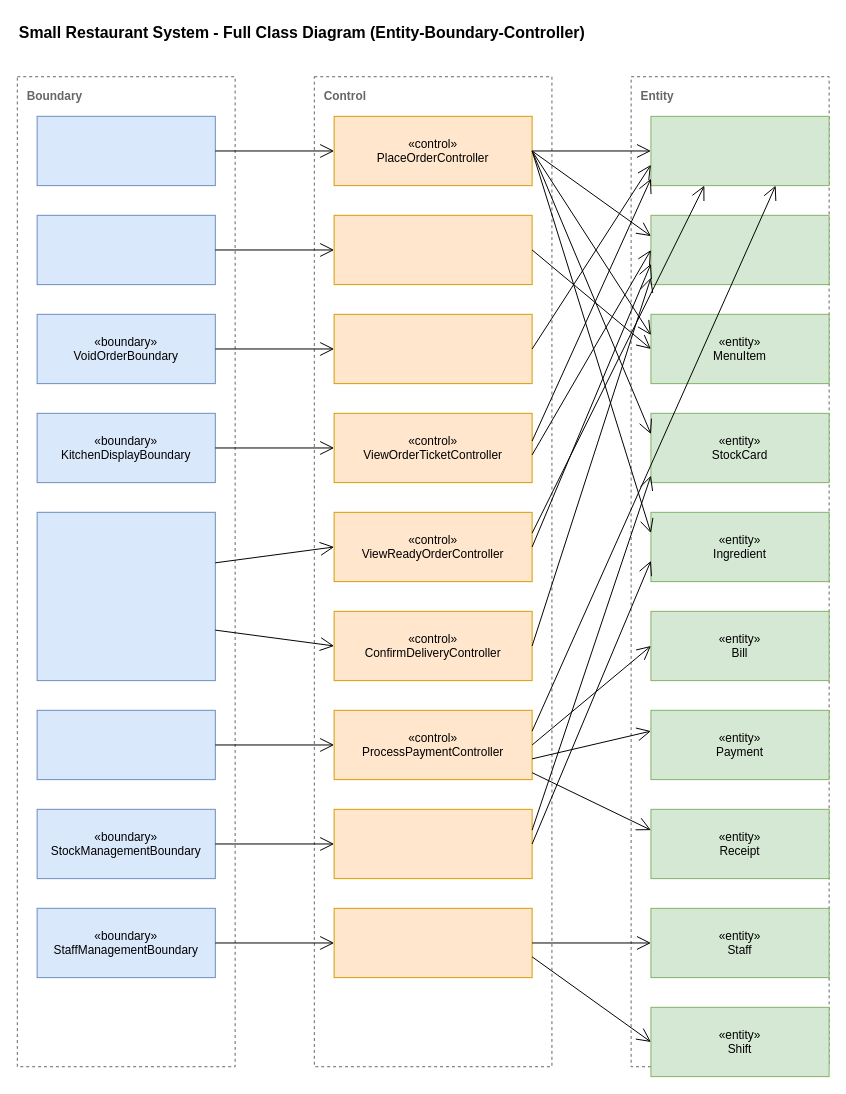
Image size: 846x1094. Some labels were removed from this diagram. Here are the shapes that lost their labels. From the top down, the centre of each, then its label:
At point 125,150: "«boundary» OrderBoundary".
At point 739,150: "«entity» Order".
At point 125,249: "«boundary» MenuManagementBoundary".
At point 432,249: "«control» ManageMenuController".
At point 739,249: "«entity» OrderDetail".
At point 432,348: "«control» VoidOrderController".
At point 125,596: "«boundary» ServerDisplayBoundary".
At point 125,744: "«boundary» PaymentBoundary".
At point 432,843: "«control» ManageStockController".
At point 432,942: "«control» ManageStaffController".
